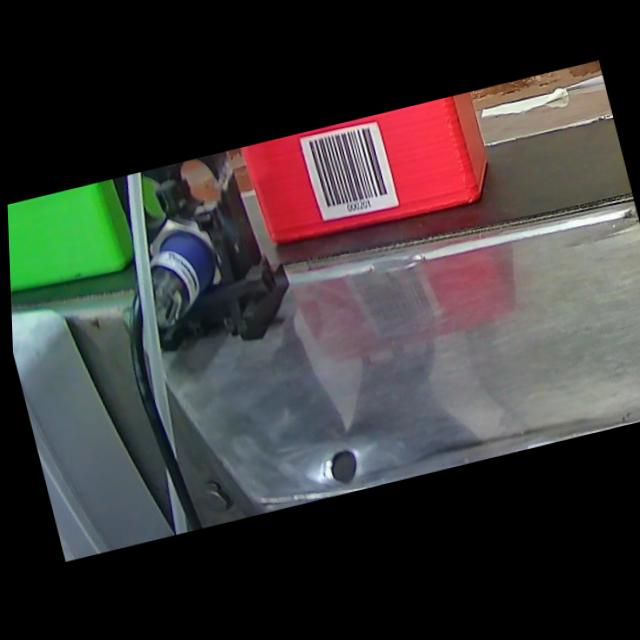greenBox: (5, 168, 183, 311)
redBox: (233, 91, 507, 255)
